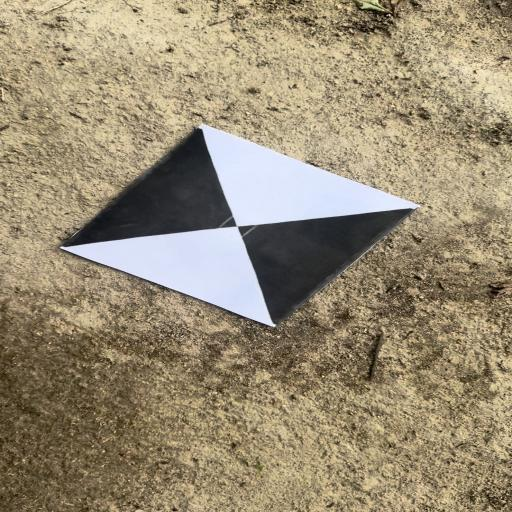target: (59, 123, 418, 329)
